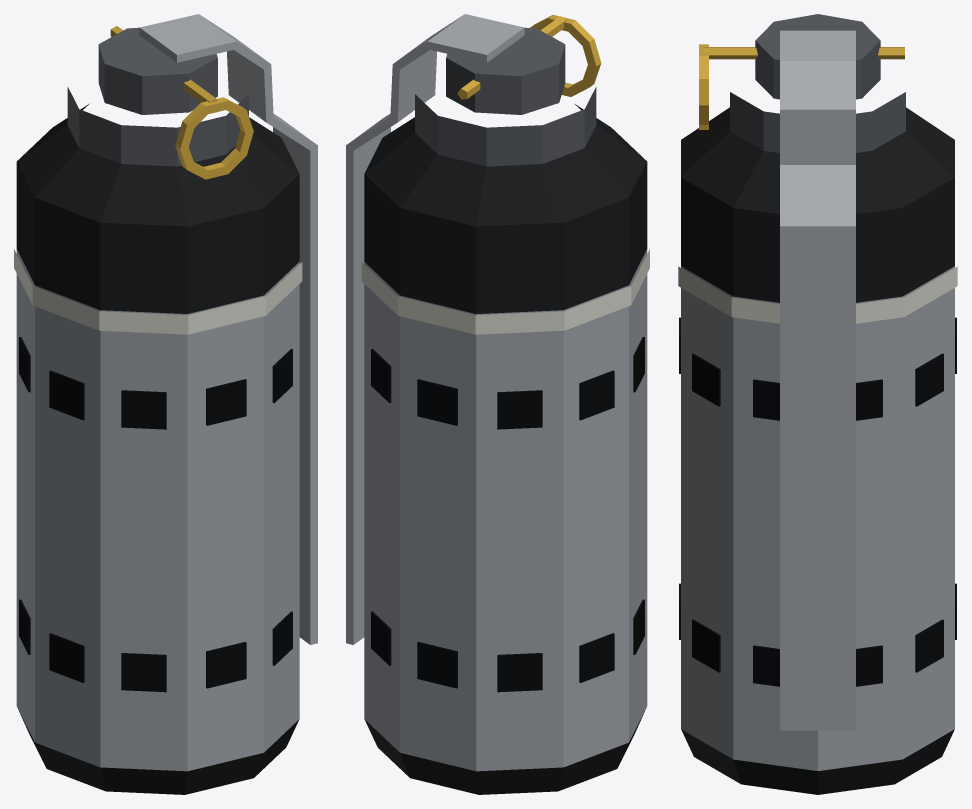
Rendered from flashbang.glb.
The picture shows the model from 3 angles, left to right: view 1: azimuth 30°, elevation 25°; view 2: azimuth 150°, elevation 25°; view 3: azimuth 270°, elevation 25°; orthographic projection.
Parts seen in each view (by area): view 1: Flash_Body, Flash_Lever, Flash_Pin; view 2: Flash_Body, Flash_Lever, Flash_Pin; view 3: Flash_Body, Flash_Lever, Flash_Pin.
Boxes of the visible parts, x1=… form: Flash_Body: x1=14, y1=27, x2=302, y2=794; Flash_Lever: x1=139, y1=14, x2=317, y2=644; Flash_Pin: x1=110, y1=26, x2=253, y2=179; Flash_Body: x1=361, y1=27, x2=649, y2=794; Flash_Lever: x1=346, y1=14, x2=524, y2=644; Flash_Pin: x1=457, y1=14, x2=601, y2=99; Flash_Body: x1=678, y1=14, x2=957, y2=794; Flash_Lever: x1=780, y1=30, x2=855, y2=730; Flash_Pin: x1=699, y1=44, x2=904, y2=129.
Size of the model in its own units: 0.0573 by 0.144 by 0.0514.
